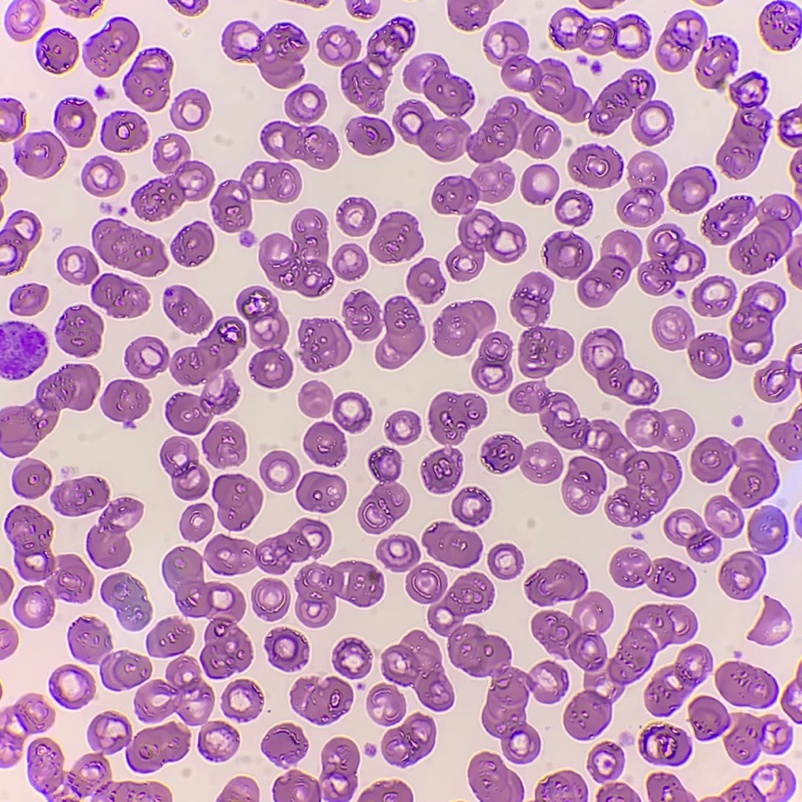RBC: (393, 97, 560, 280), (509, 381, 680, 526), (484, 22, 672, 144), (428, 573, 539, 762), (564, 605, 696, 739), (162, 547, 251, 678), (5, 505, 93, 627), (0, 364, 99, 456), (29, 738, 171, 801), (691, 437, 775, 537), (132, 134, 213, 220), (341, 18, 414, 113), (206, 519, 330, 574), (511, 273, 573, 377), (259, 209, 332, 296), (532, 592, 612, 671), (211, 161, 300, 231), (88, 713, 189, 771), (581, 329, 658, 404), (222, 21, 308, 88), (295, 562, 383, 626), (237, 286, 292, 388), (382, 631, 453, 710), (273, 738, 359, 801), (730, 195, 798, 273), (135, 657, 213, 724), (717, 74, 767, 178), (170, 317, 245, 384), (578, 231, 640, 306), (549, 11, 648, 57), (638, 225, 704, 294), (645, 645, 711, 714), (358, 447, 409, 533), (404, 54, 473, 116), (92, 219, 167, 276), (731, 282, 782, 363), (610, 548, 694, 596), (166, 379, 237, 434), (481, 435, 562, 482), (87, 498, 142, 567), (0, 694, 53, 764), (617, 152, 666, 226), (261, 121, 337, 168), (376, 296, 424, 368), (434, 300, 494, 355), (724, 713, 789, 762), (85, 18, 138, 76), (124, 49, 172, 111), (161, 437, 208, 499), (429, 393, 485, 444), (715, 661, 776, 707), (291, 677, 352, 723), (101, 573, 151, 629), (664, 509, 717, 561), (626, 409, 693, 450), (525, 559, 586, 604), (213, 474, 262, 530), (422, 522, 481, 567), (382, 714, 435, 764), (656, 14, 703, 70), (299, 319, 350, 370), (468, 753, 522, 801), (370, 212, 422, 261), (0, 211, 40, 272), (562, 457, 605, 513), (56, 305, 102, 357), (727, 764, 791, 801), (92, 274, 147, 317), (472, 333, 511, 392), (568, 145, 622, 187), (51, 476, 108, 515), (704, 196, 750, 244), (163, 286, 211, 332), (16, 132, 64, 177), (719, 551, 764, 599), (669, 167, 714, 212), (101, 380, 148, 422), (546, 235, 591, 278), (202, 422, 245, 467), (55, 98, 95, 146), (296, 472, 345, 511), (343, 290, 381, 340), (100, 651, 150, 689), (639, 726, 689, 764), (69, 617, 110, 663), (171, 222, 213, 266), (759, 5, 800, 50), (697, 40, 734, 89), (102, 111, 147, 151), (688, 333, 728, 378), (52, 665, 94, 707), (689, 696, 730, 739), (421, 449, 461, 493), (304, 422, 345, 464), (653, 306, 693, 349), (125, 337, 168, 377), (265, 629, 308, 669), (750, 599, 788, 644), (262, 724, 307, 762), (147, 619, 193, 656), (37, 32, 78, 73), (82, 156, 124, 196), (317, 26, 360, 65), (348, 117, 393, 154), (407, 258, 444, 302), (693, 276, 734, 315), (407, 563, 446, 603), (755, 361, 793, 402), (251, 579, 289, 620), (770, 409, 801, 459), (748, 510, 784, 553), (448, 0, 499, 30), (535, 771, 586, 801), (285, 84, 325, 122), (171, 90, 209, 130), (260, 451, 298, 491), (223, 680, 263, 718), (367, 685, 405, 724), (377, 536, 419, 571), (452, 487, 490, 525), (521, 164, 558, 203), (13, 459, 50, 498), (333, 638, 370, 677), (8, 0, 44, 40), (337, 198, 375, 235), (58, 246, 97, 282), (333, 393, 370, 430), (198, 722, 237, 757), (647, 774, 694, 801), (180, 503, 213, 540), (333, 244, 367, 279), (555, 191, 591, 224), (488, 544, 522, 578), (385, 411, 419, 444), (299, 381, 331, 416), (588, 744, 620, 779), (13, 284, 47, 315), (0, 99, 25, 141), (359, 782, 412, 801), (218, 777, 258, 801), (597, 783, 639, 801), (58, 0, 100, 17), (19, 342, 46, 366), (0, 620, 17, 658), (346, 0, 379, 18), (546, 662, 567, 690), (787, 248, 801, 286), (790, 151, 801, 193), (779, 108, 801, 127), (0, 569, 12, 602), (8, 322, 33, 337), (583, 0, 612, 9), (786, 705, 801, 722), (536, 690, 554, 702), (791, 671, 801, 690), (192, 0, 207, 12), (785, 135, 801, 146), (0, 171, 6, 192), (305, 0, 325, 5), (700, 0, 716, 5), (365, 745, 373, 753), (171, 0, 180, 6), (710, 797, 721, 801)
